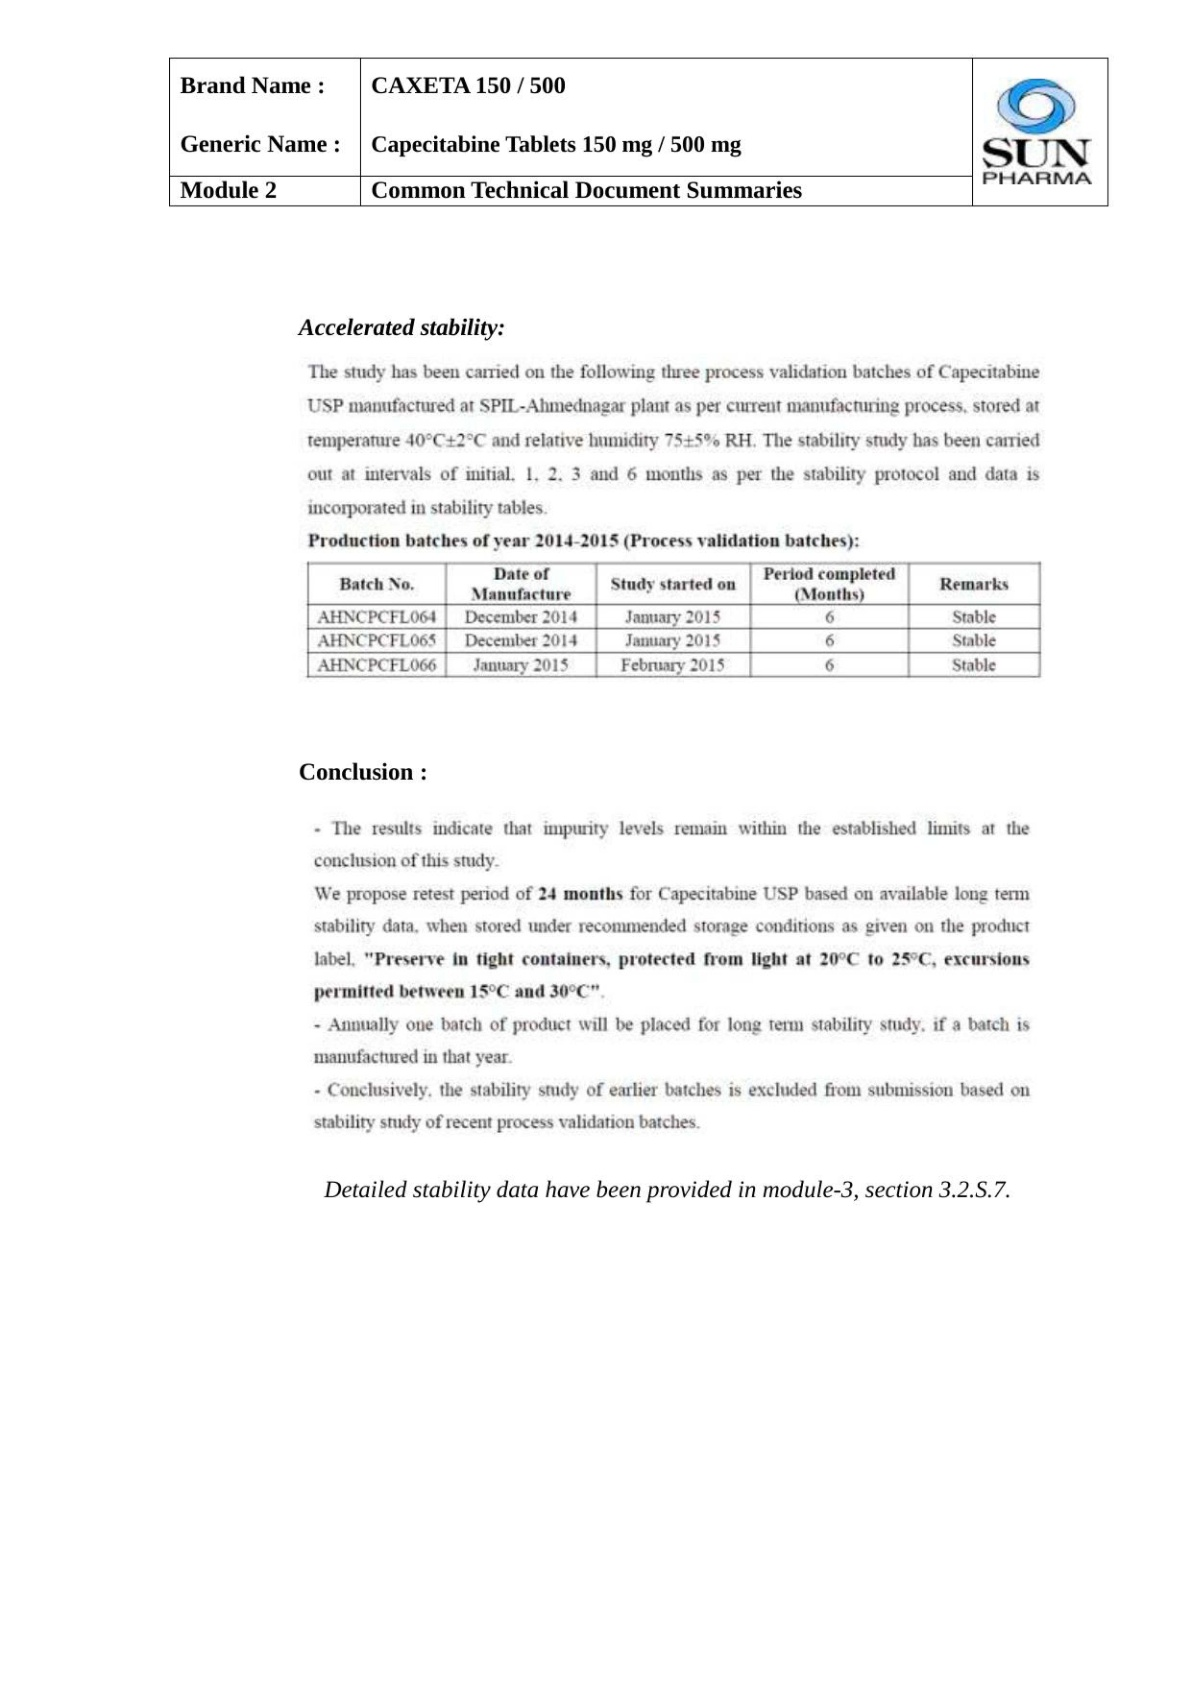full_lined: (306, 561, 1041, 678)
merged_cells: (168, 55, 1109, 208)
